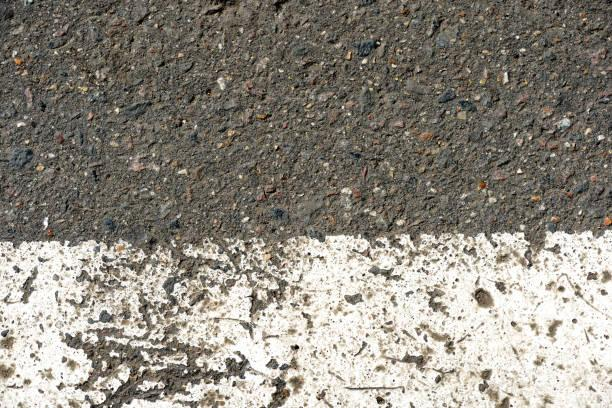faded_road_lines: (0, 229, 612, 408)
